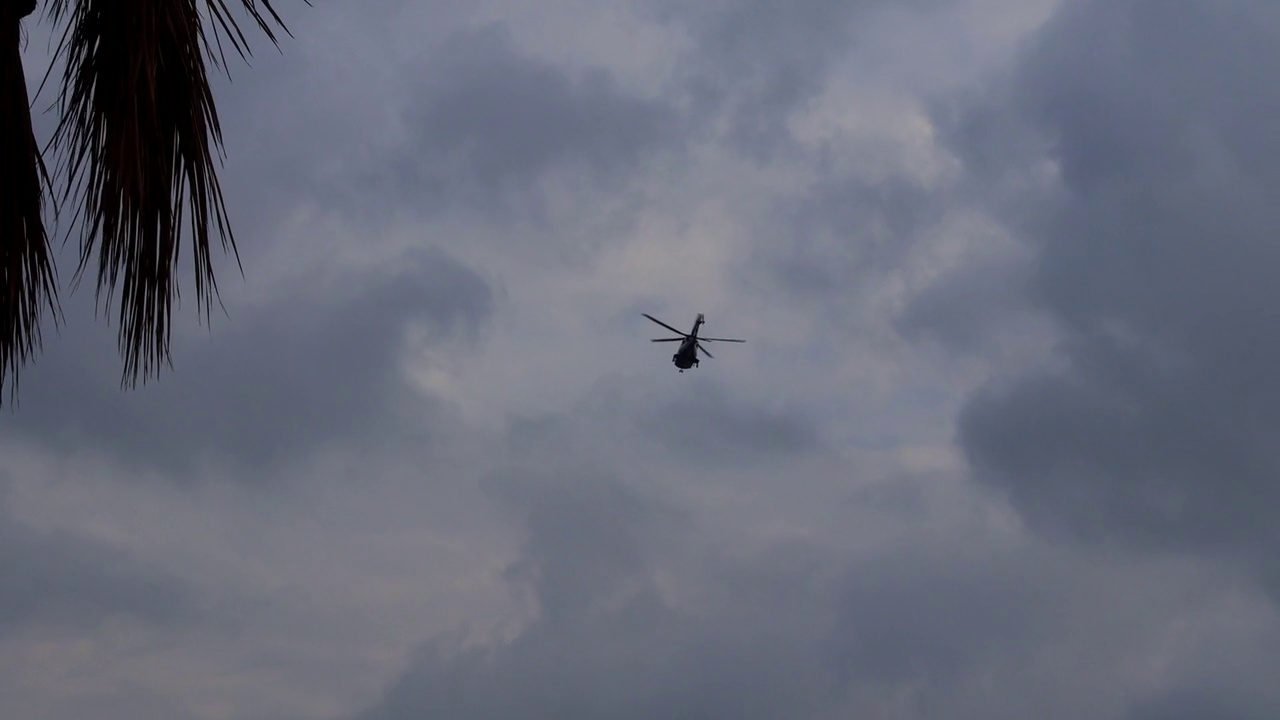heli: (640, 309, 745, 374)
